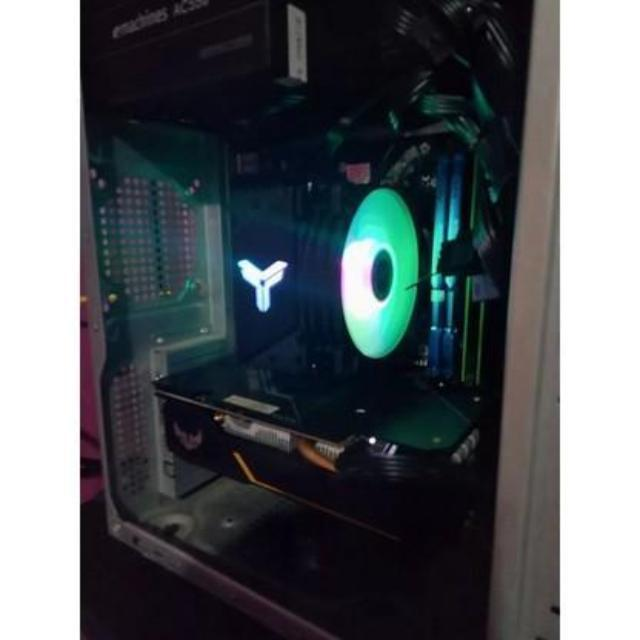CPU_Fan: (228, 182, 424, 372)
